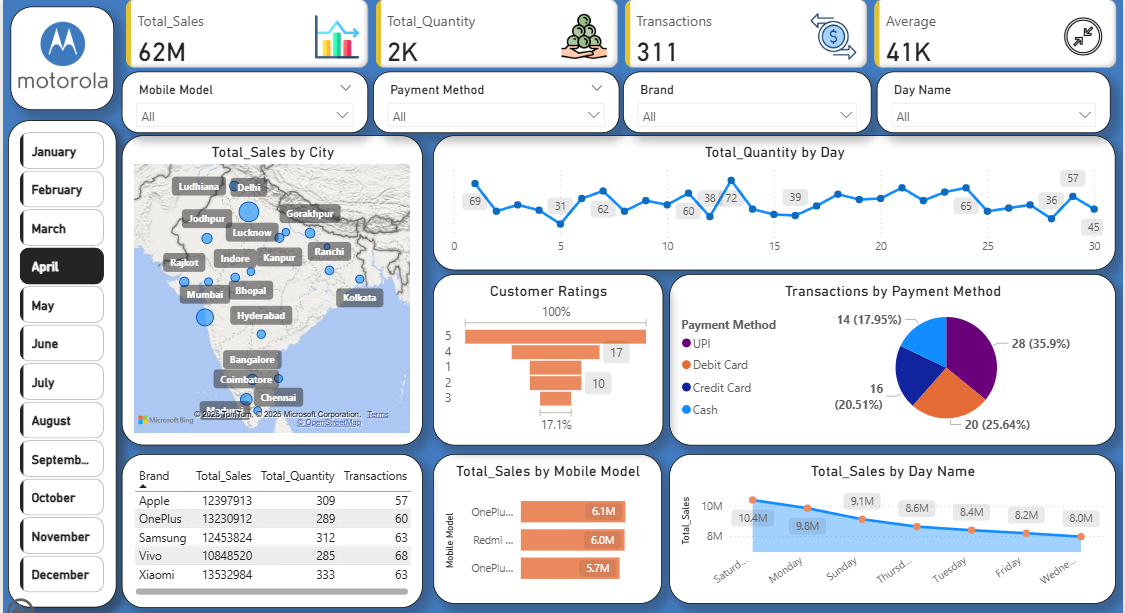

What the dashboard file says about the page in this screenshot:
{"tool":"powerbi","page":{"name":"Page 1","canvas":[1280,720],"ordinal":0},"visuals":[{"type":"shape","box":[8.6,8.6,118.6,118.6],"z":0},{"type":"image","box":[12.9,10,111.4,108.6],"z":1000},{"type":"shape","box":[15.8,138.2,111.8,556.6],"z":2000},{"type":"advancedSlicerVisual","fields":{"Values":["Mobile_Sales_Data.Date.Variation.Date Hierarchy.Month"]},"box":[5.7,138.6,124.3,557.1],"z":3000},{"type":"cardVisual","fields":{"Data":["Mobile_Sales_Data.Total_Sales","Mobile_Sales_Data.Total_Quantity","Mobile_Sales_Data.Transactions","Mobile_Sales_Data.Average"]},"box":[135.7,0,1144.3,91.4],"z":4000},{"type":"map","fields":{"Category":["Mobile_Sales_Data.City"],"Size":["Mobile_Sales_Data.Total_Sales"]},"box":[135.7,155.7,344.3,354.3],"z":5000},{"type":"lineChart","fields":{"Category":["Mobile_Sales_Data.Date.Variation.Date Hierarchy.Month","Mobile_Sales_Data.Date.Variation.Date Hierarchy.Day"],"Y":["Mobile_Sales_Data.Total_Quantity"]},"box":[491.4,155.7,780,154.3],"z":6000},{"type":"clusteredBarChart","fields":{"Category":["Mobile_Sales_Data.Mobile Model"],"Y":["Mobile_Sales_Data.Total_Sales"]},"box":[491.4,520,261.4,171.4],"z":7000},{"type":"pieChart","fields":{"Category":["Mobile_Sales_Data.Payment Method"],"Y":["Mobile_Sales_Data.Transactions"]},"box":[761.4,314.3,510,195.7],"z":8000},{"type":"funnel","title":"Customer Ratings","fields":{"Category":["Mobile_Sales_Data.Customer Ratings"],"Y":["CountNonNull(Mobile_Sales_Data.Customer Ratings)"]},"box":[491.4,314.3,262.9,195.7],"z":9000},{"type":"areaChart","fields":{"Category":["Mobile_Sales_Data.Day Name"],"Y":["Mobile_Sales_Data.Total_Sales"]},"box":[761.4,520,510,171.4],"z":10000},{"type":"tableEx","fields":{"Values":["Mobile_Sales_Data.Brand","Mobile_Sales_Data.Total_Sales","Mobile_Sales_Data.Total_Quantity","Mobile_Sales_Data.Transactions"]},"box":[135.7,520,344.3,175.7],"z":11000},{"type":"actionButton","box":[0,680,94.3,40],"z":12000},{"type":"slicer","fields":{"Values":["Mobile_Sales_Data.Mobile Model"]},"box":[135.7,82.9,281.4,70],"z":13000},{"type":"slicer","fields":{"Values":["Mobile_Sales_Data.Payment Method"]},"box":[422.9,82.9,281.4,70],"z":14000},{"type":"slicer","fields":{"Values":["Mobile_Sales_Data.Brand"]},"box":[708.6,82.9,284.3,70],"z":15000},{"type":"slicer","fields":{"Values":["Mobile_Sales_Data.Day Name"]},"box":[998.6,82.9,267.1,70],"z":16000}]}

Visuals, with their boxes in screenshot pixels (x1, y1, x2, y2):
shape: select_region(10, 5, 114, 108)
image: select_region(14, 6, 111, 100)
shape: select_region(17, 117, 114, 601)
advancedSlicerVisual - Mobile_Sales_Data.Date.Variation.Date Hierarchy.Month: select_region(8, 118, 116, 602)
cardVisual - Mobile_Sales_Data.Total_Sales x Mobile_Sales_Data.Total_Quantity: select_region(121, 0, 1116, 77)
map - Mobile_Sales_Data.City x Mobile_Sales_Data.Total_Sales: select_region(121, 132, 420, 441)
lineChart - Mobile_Sales_Data.Date.Variation.Date Hierarchy.Month x Mobile_Sales_Data.Date.Variation.Date Hierarchy.Day: select_region(430, 132, 1108, 267)
clusteredBarChart - Mobile_Sales_Data.Mobile Model x Mobile_Sales_Data.Total_Sales: select_region(430, 449, 657, 598)
pieChart - Mobile_Sales_Data.Payment Method x Mobile_Sales_Data.Transactions: select_region(665, 270, 1108, 441)
"Customer Ratings" funnel: select_region(430, 270, 659, 441)
areaChart - Mobile_Sales_Data.Day Name x Mobile_Sales_Data.Total_Sales: select_region(665, 449, 1108, 598)
tableEx - Mobile_Sales_Data.Brand x Mobile_Sales_Data.Total_Sales: select_region(121, 449, 420, 602)
actionButton: select_region(3, 588, 85, 612)
slicer - Mobile_Sales_Data.Mobile Model: select_region(121, 69, 366, 130)
slicer - Mobile_Sales_Data.Payment Method: select_region(371, 69, 615, 130)
slicer - Mobile_Sales_Data.Brand: select_region(619, 69, 866, 130)
slicer - Mobile_Sales_Data.Day Name: select_region(871, 69, 1103, 130)
